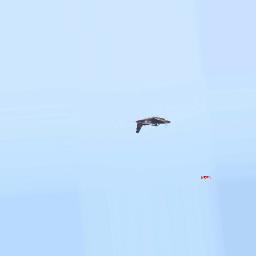Airplane: (135, 116, 171, 134)
